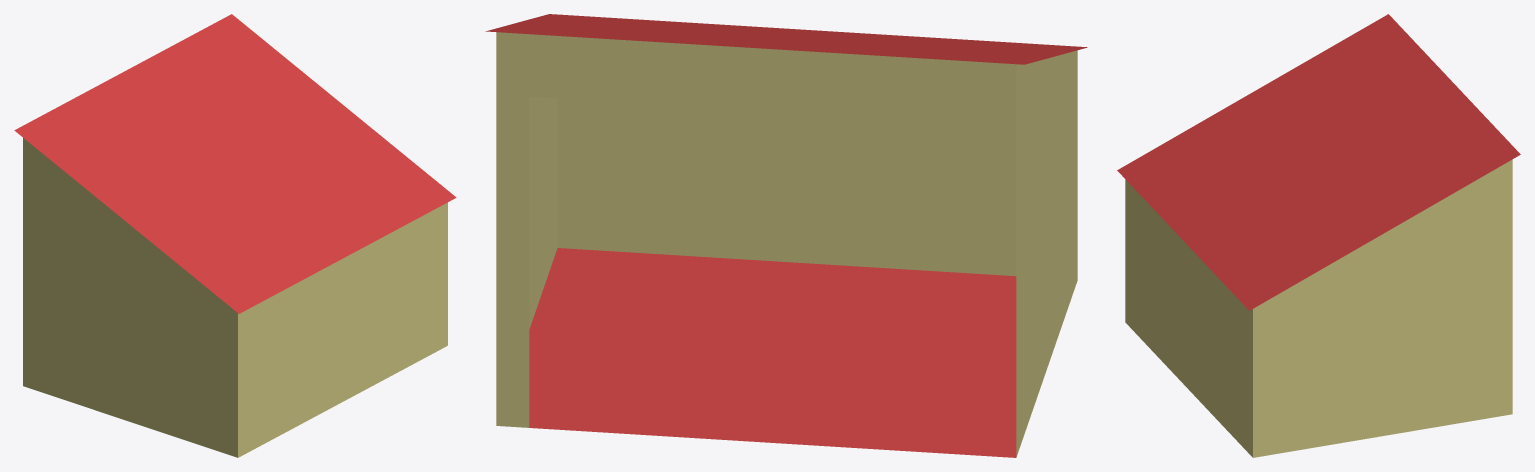
The picture shows the model from 3 angles, left to right: view 1: azimuth 30°, elevation 25°; view 2: azimuth 150°, elevation 25°; view 3: azimuth 270°, elevation 25°; orthographic projection. The views are drawn at different scales.
Bounding box in the file's own units: 17.15 × 15.72 × 11.22.
